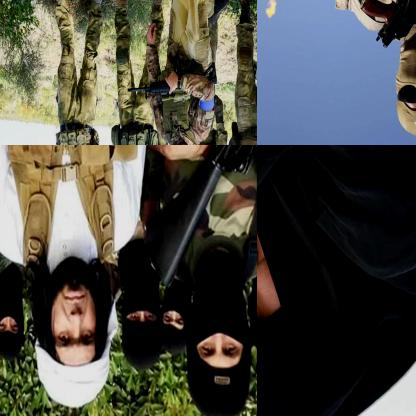rifle: (141, 145, 256, 291), (124, 54, 219, 102)
